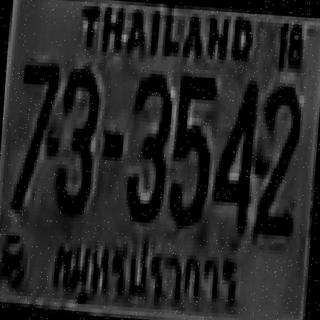N02: (253, 82, 300, 236)
N03: (122, 68, 172, 220), (51, 64, 100, 211)
N04: (211, 77, 258, 228)
N05: (166, 72, 216, 223)
N07: (12, 59, 58, 210)
P57: (49, 228, 244, 318)
